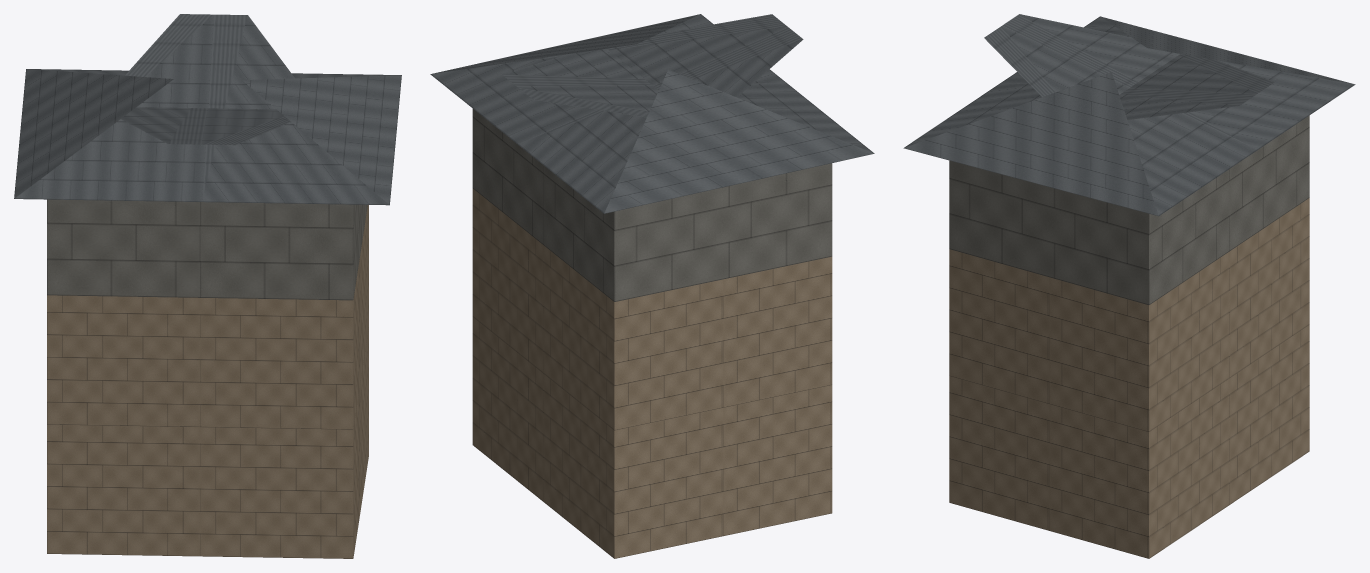
File: bld_c-25_24_720.gltf
3 views of the same model, side by side, from view 1: azimuth 30°, elevation 25°; view 2: azimuth 150°, elevation 25°; view 3: azimuth 270°, elevation 25° (orthographic).
Parts seen in each view (by area): view 1: bld_c-25_24_720; view 2: bld_c-25_24_720; view 3: bld_c-25_24_720.
Part boxes in pixels (<box>): bld_c-25_24_720: <box>14,14,401,558</box>; bld_c-25_24_720: <box>430,14,874,558</box>; bld_c-25_24_720: <box>903,14,1355,558</box>.
Size of the model in its own units: 7.61 by 7.4 by 7.27.
Materials: 3 (3 with a texture image).
